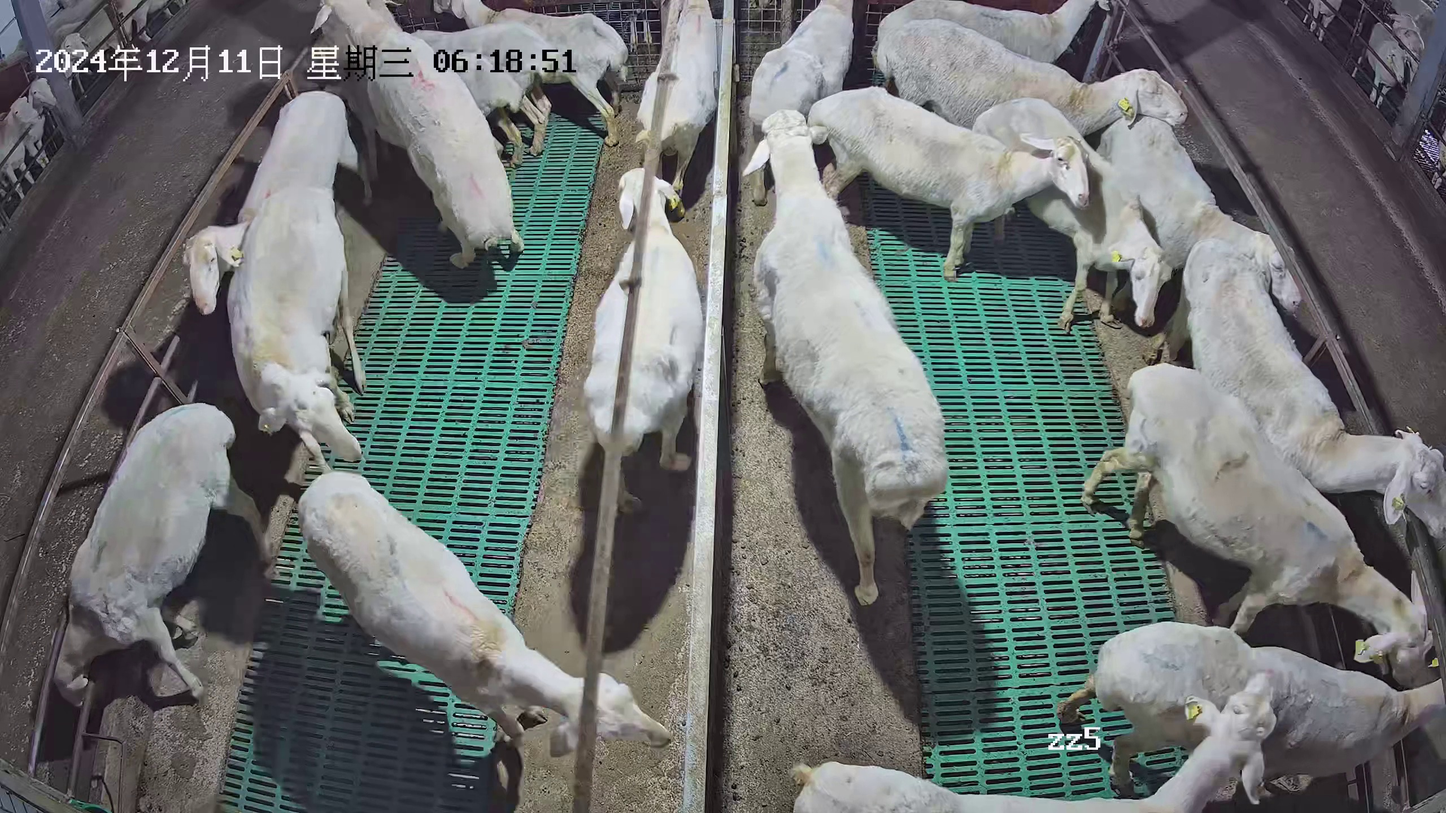Smounting: (305, 1, 526, 269)
mounted: (308, 1, 447, 234)
